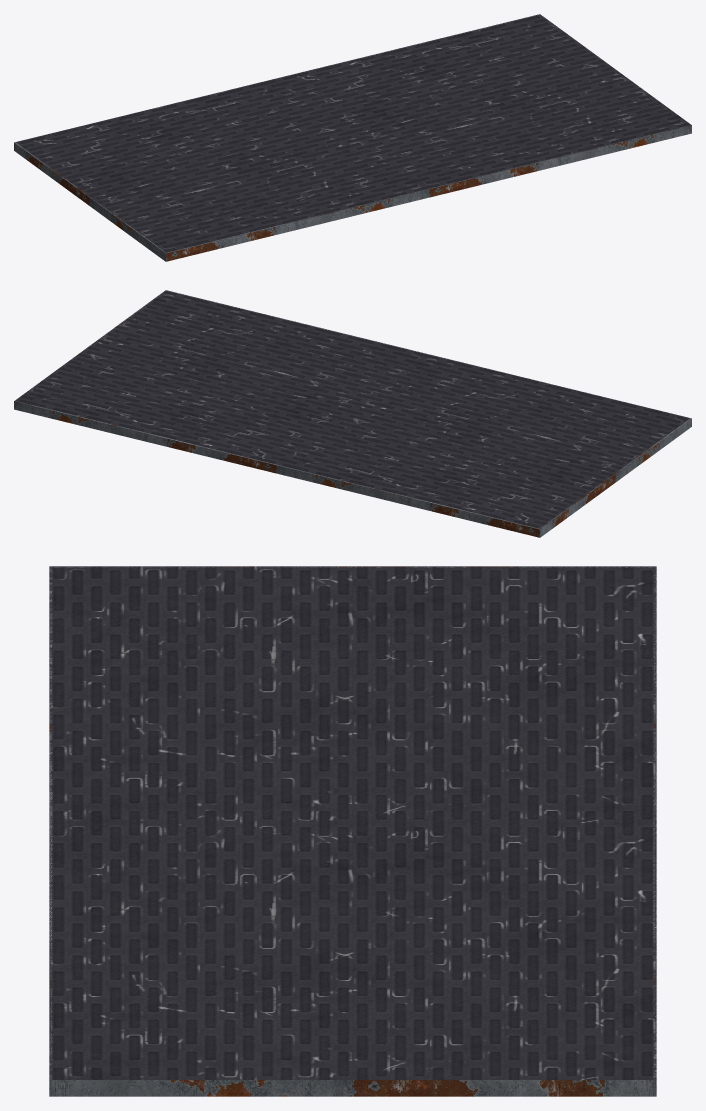
Rendered from zemin_izgara_2x1.gltf.
3 renders of one model, top to bottom at view 1: azimuth 30°, elevation 25°; view 2: azimuth 150°, elevation 25°; view 3: azimuth 270°, elevation 25°, orthographic. The views are drawn at different scales.
Visible parts, largest first — view 1: zemin_izgara_2x1; view 2: zemin_izgara_2x1; view 3: zemin_izgara_2x1.
Boxes of the visible parts, <box> form: zemin_izgara_2x1: <box>14,14,691,261</box>; zemin_izgara_2x1: <box>14,290,691,537</box>; zemin_izgara_2x1: <box>49,566,656,1096</box>.
Size of what is drawn, in the model's own units: 2 by 0.03 by 1.
Materials: 2 (2 with a texture image).
